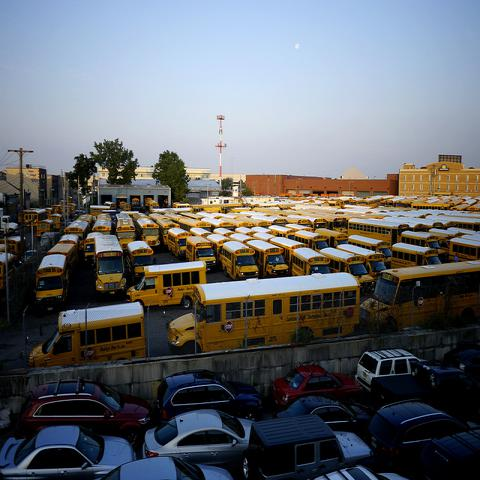bus: (180, 192, 452, 290), (189, 273, 361, 355), (31, 301, 144, 370), (374, 259, 480, 328), (129, 263, 209, 308), (348, 216, 411, 249), (92, 236, 126, 296), (247, 239, 291, 277), (220, 239, 260, 279), (390, 242, 442, 268), (291, 248, 332, 278), (185, 236, 219, 271), (448, 237, 480, 262), (213, 228, 235, 236)
car: (6, 378, 153, 448), (364, 397, 480, 473), (0, 424, 137, 479), (143, 410, 254, 469), (156, 369, 263, 423), (276, 397, 377, 441), (270, 364, 362, 412), (100, 454, 234, 479), (313, 465, 413, 480)
truck: (240, 412, 377, 479), (368, 359, 480, 417), (355, 348, 428, 392), (400, 228, 449, 263)
